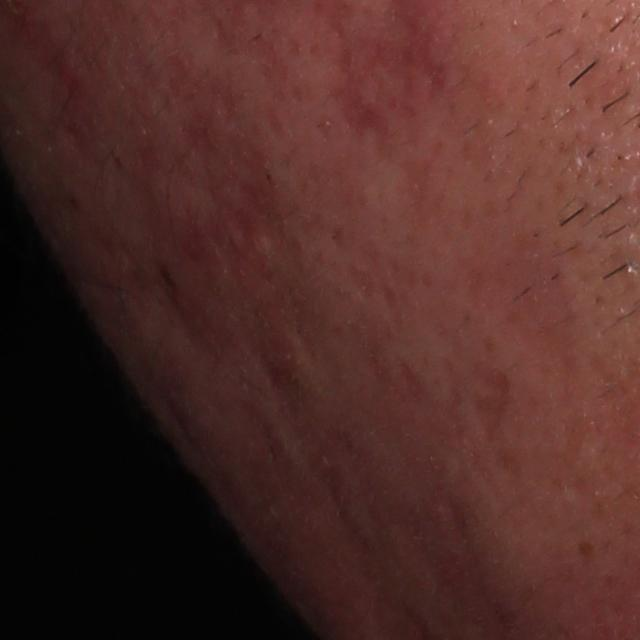atrophic_scar: (229, 324, 367, 574), (100, 224, 193, 363), (439, 482, 502, 619), (215, 144, 279, 278), (465, 365, 530, 484)
